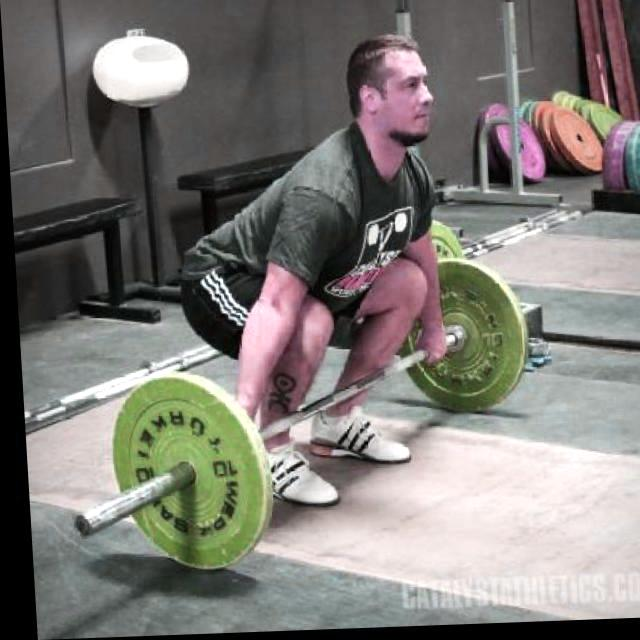barbell: (55, 370, 267, 577)
